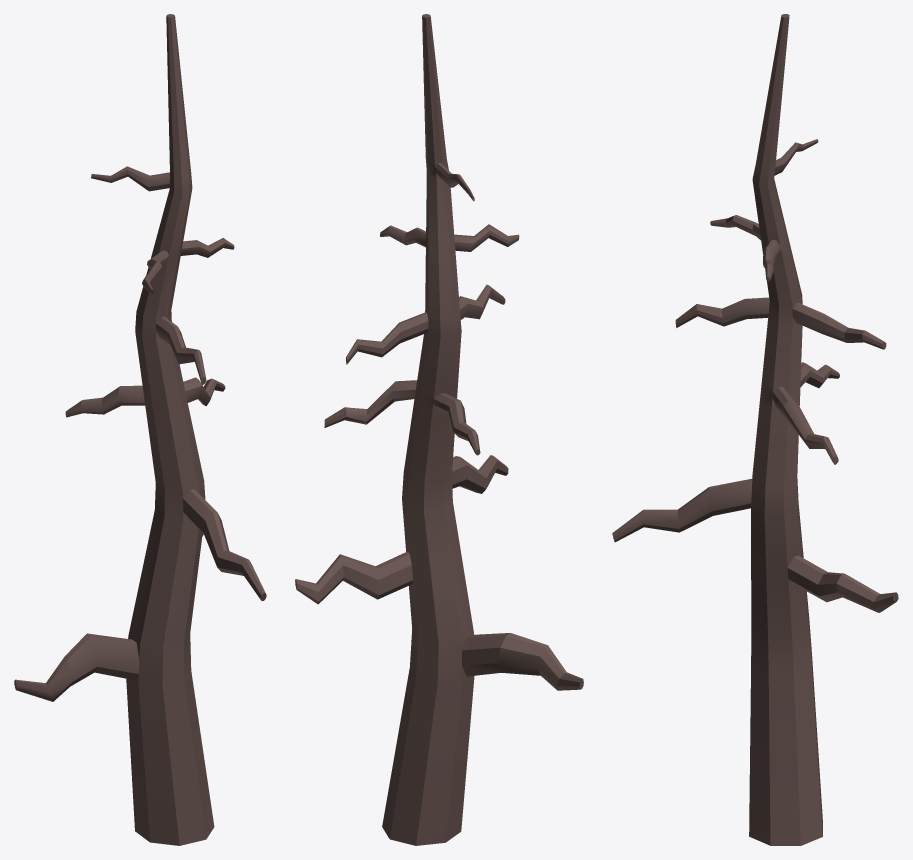
The model's file is dever2.fbx.
The picture shows the model from 3 angles, left to right: view 1: azimuth 30°, elevation 25°; view 2: azimuth 150°, elevation 25°; view 3: azimuth 270°, elevation 25°; orthographic projection.
Visible parts, largest first — view 1: Trunk.000; view 2: Trunk.000; view 3: Trunk.000.
Part boxes in pixels (x1,y1,x2,y2): Trunk.000: (14, 14, 266, 845); Trunk.000: (295, 14, 583, 845); Trunk.000: (612, 14, 898, 845).
Size of the model in its own units: 1.07 by 3.54 by 1.13.
